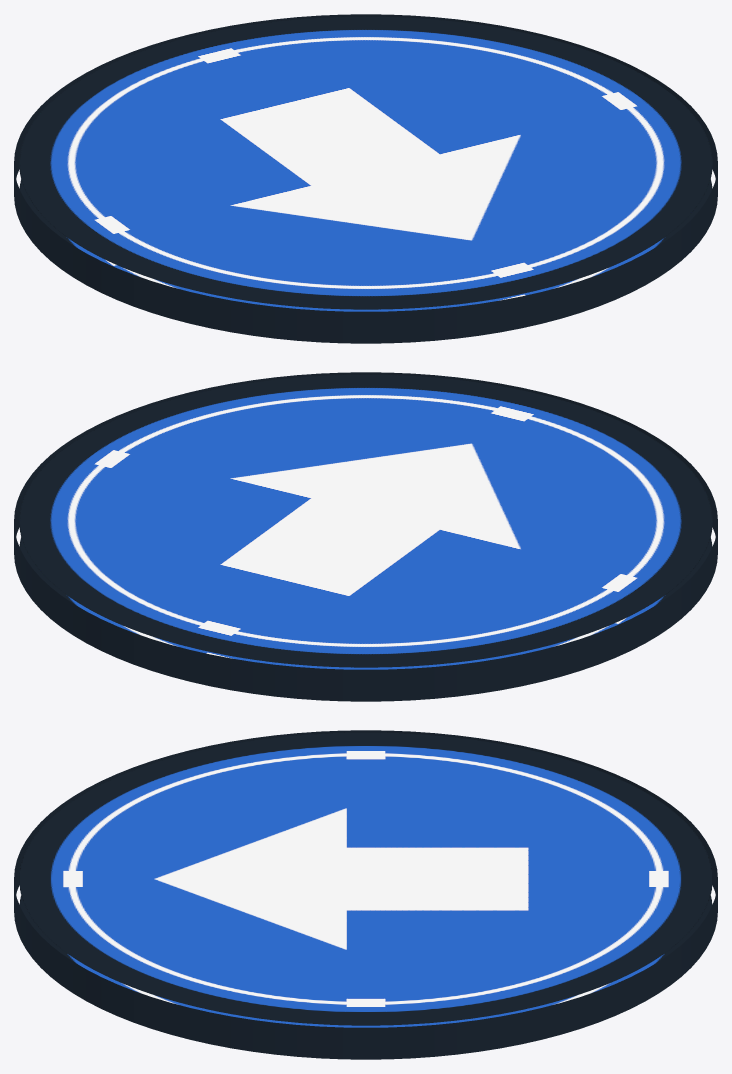
3 views of the same model, one above another, from view 1: azimuth 30°, elevation 25°; view 2: azimuth 150°, elevation 25°; view 3: azimuth 270°, elevation 25° (orthographic).
Size of the model in its own units: 3.2 by 0.16 by 3.2.
Materials: 3 (3 with a texture image).
